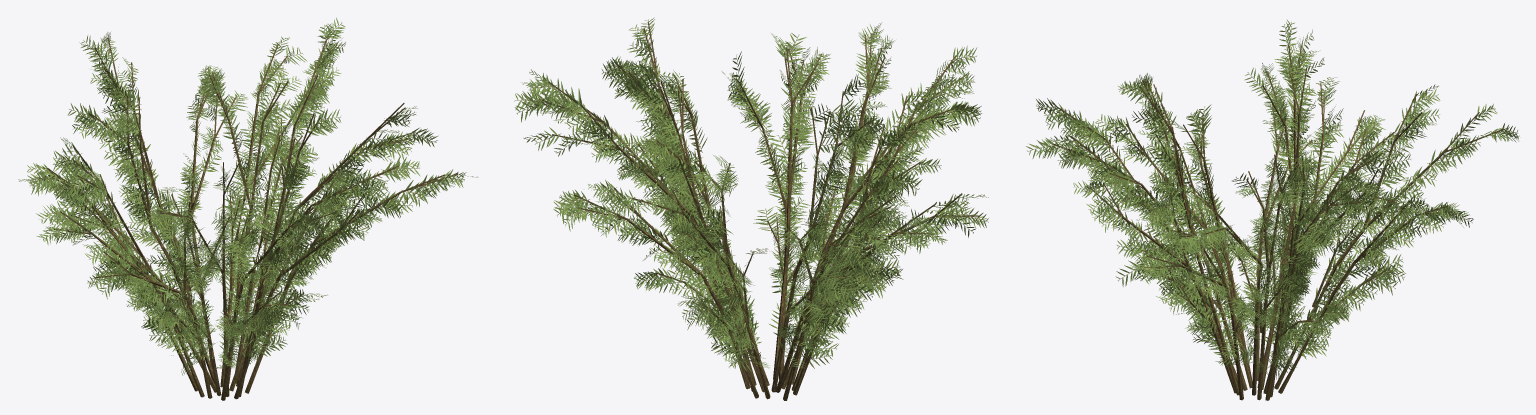
File: willow_shrub_v01_LOD1.fbx
The picture shows the model from 3 angles, left to right: view 1: azimuth 30°, elevation 25°; view 2: azimuth 150°, elevation 25°; view 3: azimuth 270°, elevation 25°; orthographic projection. The views are drawn at different scales.
Parts seen in each view (by area): view 1: willow_shrub_v01_LOD1; view 2: willow_shrub_v01_LOD1; view 3: willow_shrub_v01_LOD1.
Part boxes in pixels (left/top/right/bottom): willow_shrub_v01_LOD1: left=18, top=17, right=478, bottom=400; willow_shrub_v01_LOD1: left=514, top=17, right=988, bottom=400; willow_shrub_v01_LOD1: left=1026, top=20, right=1519, bottom=400.
Size of the model in its own units: 387 by 320 by 436.
Materials: 2 (2 with a texture image).
